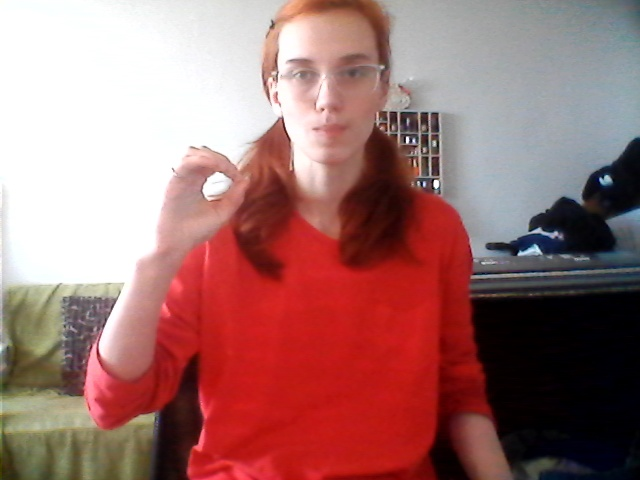o: (151, 144, 264, 248)
